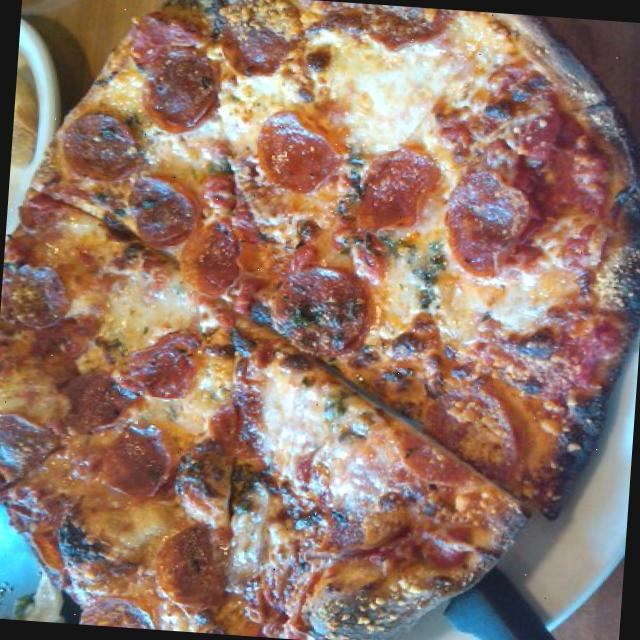cheese: (241, 372, 389, 498), (386, 272, 550, 345), (347, 46, 445, 139), (115, 280, 192, 328)
pepperoni: (493, 124, 612, 260), (396, 380, 528, 490), (432, 158, 540, 287), (342, 133, 448, 248), (264, 252, 372, 360), (143, 507, 244, 622), (244, 106, 352, 200), (84, 412, 185, 510), (134, 39, 232, 137), (466, 66, 562, 162), (44, 356, 141, 438), (107, 164, 203, 245), (210, 0, 306, 80), (118, 5, 212, 84), (0, 253, 84, 336), (119, 321, 208, 398), (55, 107, 142, 183), (349, 1, 464, 54), (178, 216, 248, 300)
pizza: (0, 0, 640, 640)
